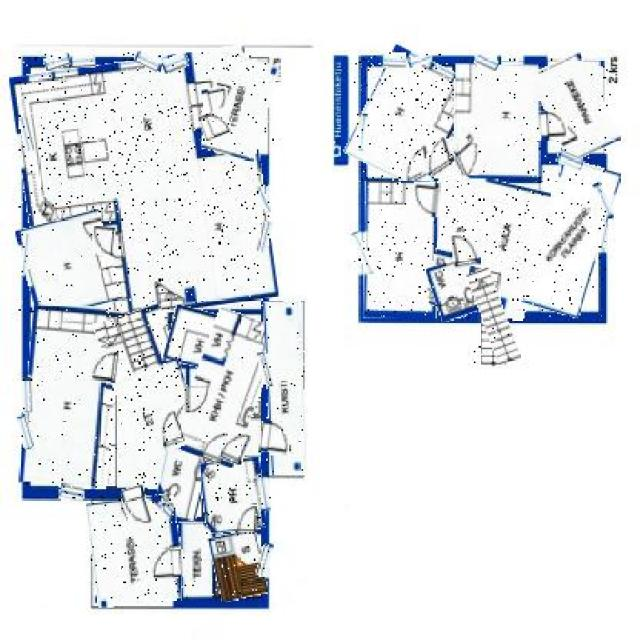door: (424, 137, 458, 180), (157, 411, 185, 451), (123, 486, 149, 529), (260, 422, 291, 456), (451, 232, 480, 266), (222, 428, 250, 463), (535, 111, 568, 140), (412, 183, 440, 217), (150, 551, 184, 578), (89, 351, 117, 382), (200, 111, 231, 138), (454, 142, 478, 176), (202, 86, 229, 114), (186, 388, 211, 415), (94, 228, 115, 255), (237, 505, 257, 532)
window: (355, 231, 371, 275), (255, 477, 271, 511), (597, 182, 611, 220), (135, 52, 163, 71), (258, 351, 272, 386), (162, 54, 189, 72), (557, 151, 583, 169), (59, 485, 85, 503), (258, 543, 271, 577), (20, 117, 32, 151), (20, 416, 32, 450), (258, 222, 271, 252), (44, 54, 70, 69), (383, 54, 408, 69), (358, 114, 368, 151), (258, 186, 271, 214), (22, 236, 31, 276), (476, 55, 498, 71), (22, 378, 32, 412), (71, 55, 95, 68), (599, 218, 606, 252), (408, 56, 430, 66), (163, 502, 174, 518), (500, 59, 525, 64)
zone: (18, 52, 271, 322), (23, 308, 117, 489), (106, 306, 200, 486), (432, 176, 545, 316), (356, 52, 470, 185), (180, 310, 271, 464), (531, 160, 611, 317), (89, 496, 183, 606), (365, 180, 437, 318), (21, 214, 117, 315), (456, 65, 538, 182), (538, 55, 612, 158), (206, 55, 274, 160), (266, 302, 305, 476), (202, 458, 264, 532), (157, 440, 206, 523), (210, 531, 264, 600), (474, 269, 512, 365), (166, 308, 219, 368), (432, 261, 480, 317), (431, 260, 477, 318), (180, 522, 212, 600)
